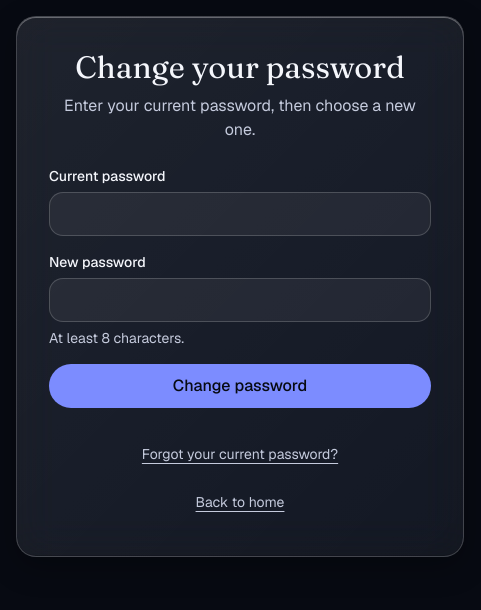
Test: Change password › explains a wrong current password
This screenshot has width=481, height=610.
Step 1. Type "wrong-password" into the password field labelled "Current password" → (240, 214), box [49,192,431,236]
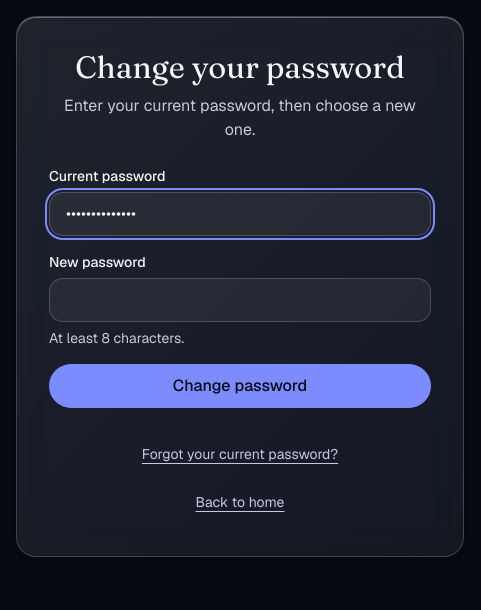
Step 2. Type "a-new-password" into the password field labelled "New password" → (240, 300), box [49,278,431,322]
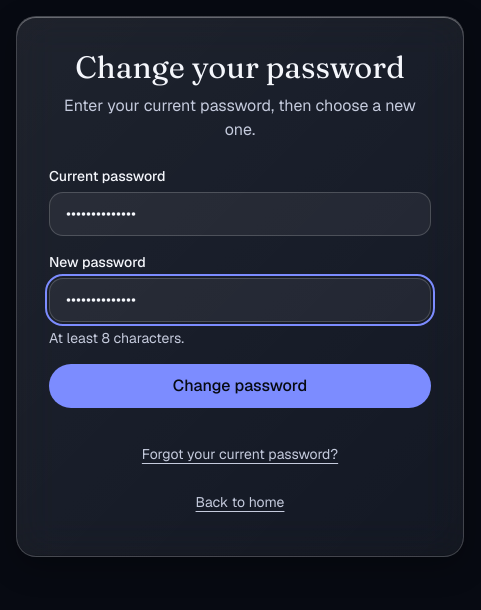
Step 3. Click the button "Change password" → (240, 386), box [49,364,431,408]
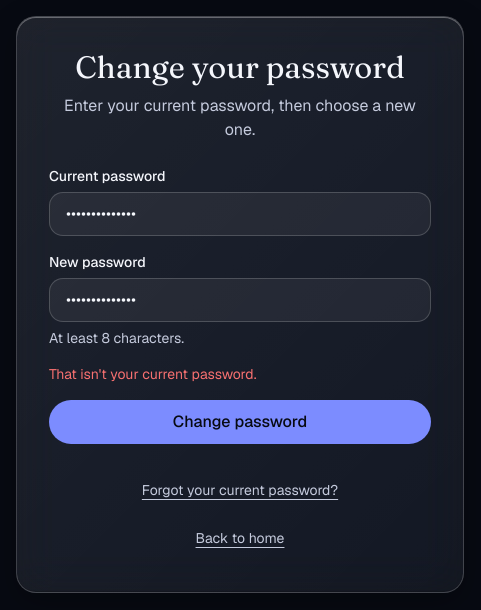
Expected: the message reads "That isn't your current password.", [49,365,256,383]
